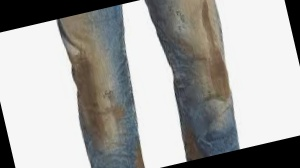earth: (194, 1, 233, 99), (68, 59, 110, 148), (60, 14, 93, 62), (184, 133, 199, 161), (107, 102, 124, 122), (179, 36, 196, 55), (134, 148, 145, 168), (181, 0, 212, 7)
